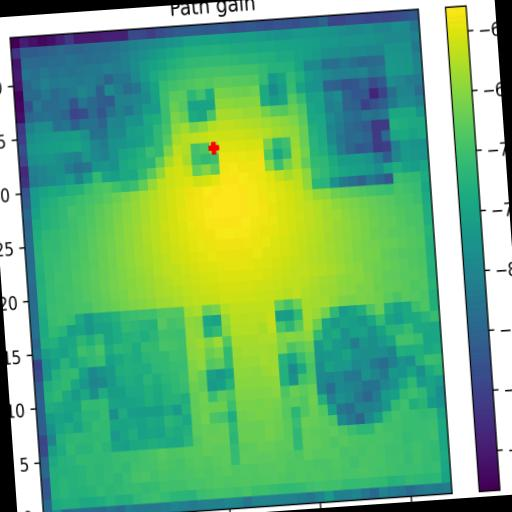Concrete: (304, 54, 394, 188)
Glass: (66, 56, 176, 194)
Metal: (313, 302, 411, 428)
Wood: (104, 308, 194, 454)
